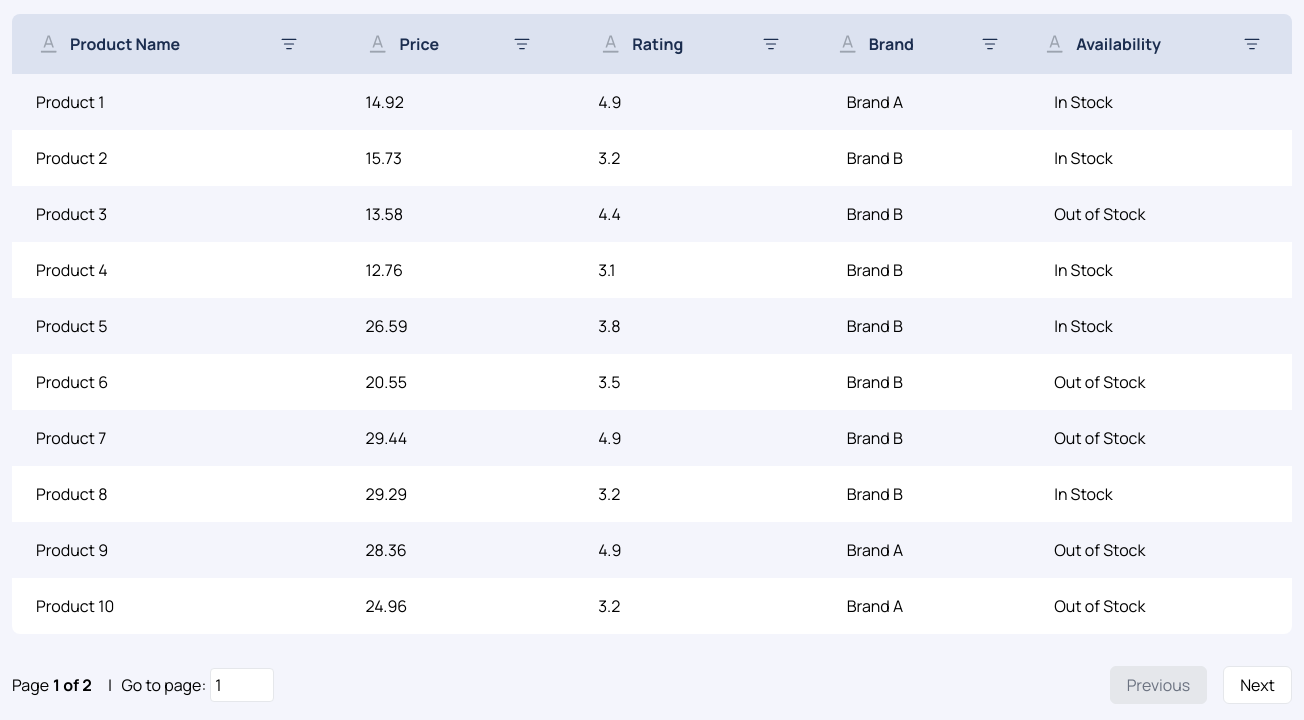
Test: DataTable › allows pagination
The image size is (1304, 720).
(page scrolled)
Expected: the button "Previous" is disabled, [1110,666,1207,704]
Click the button "Next" at (1258, 685), box [1223,666,1292,704]
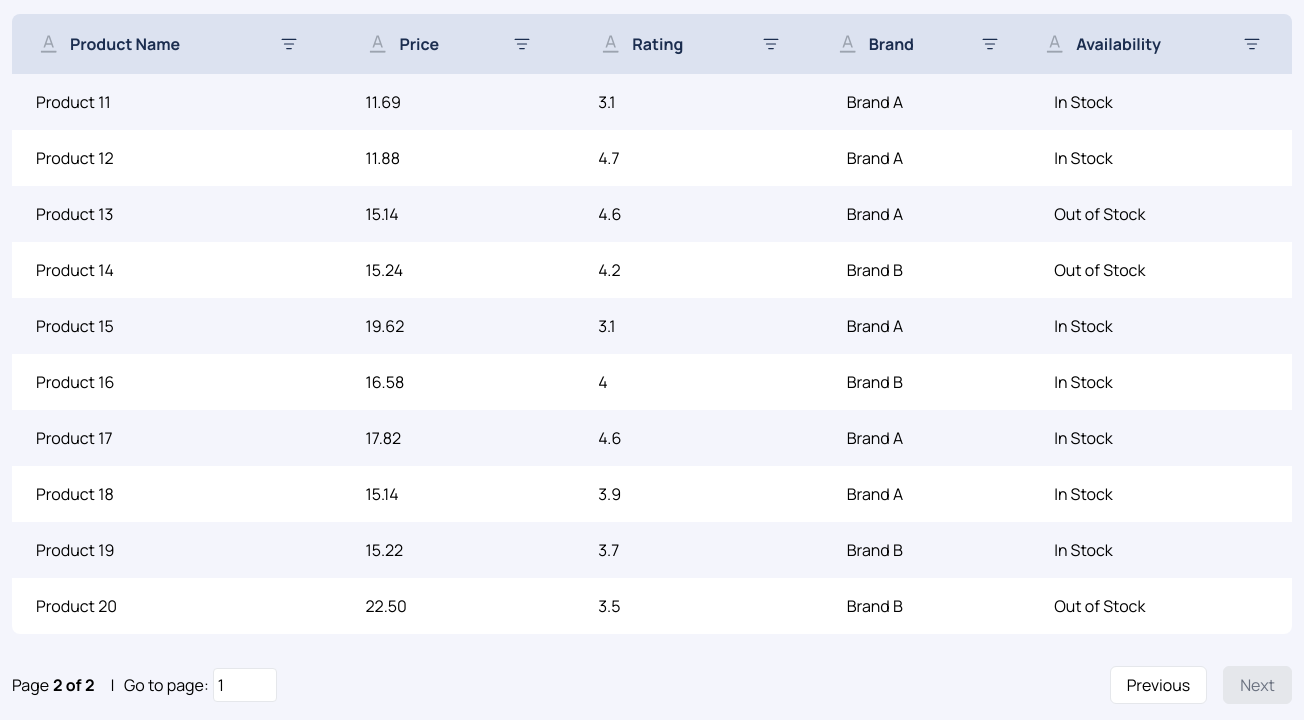
Expected: the button "Previous" is enabled, [1110,666,1207,704]
Expected: the button "Next" is disabled, [1223,666,1292,704]
